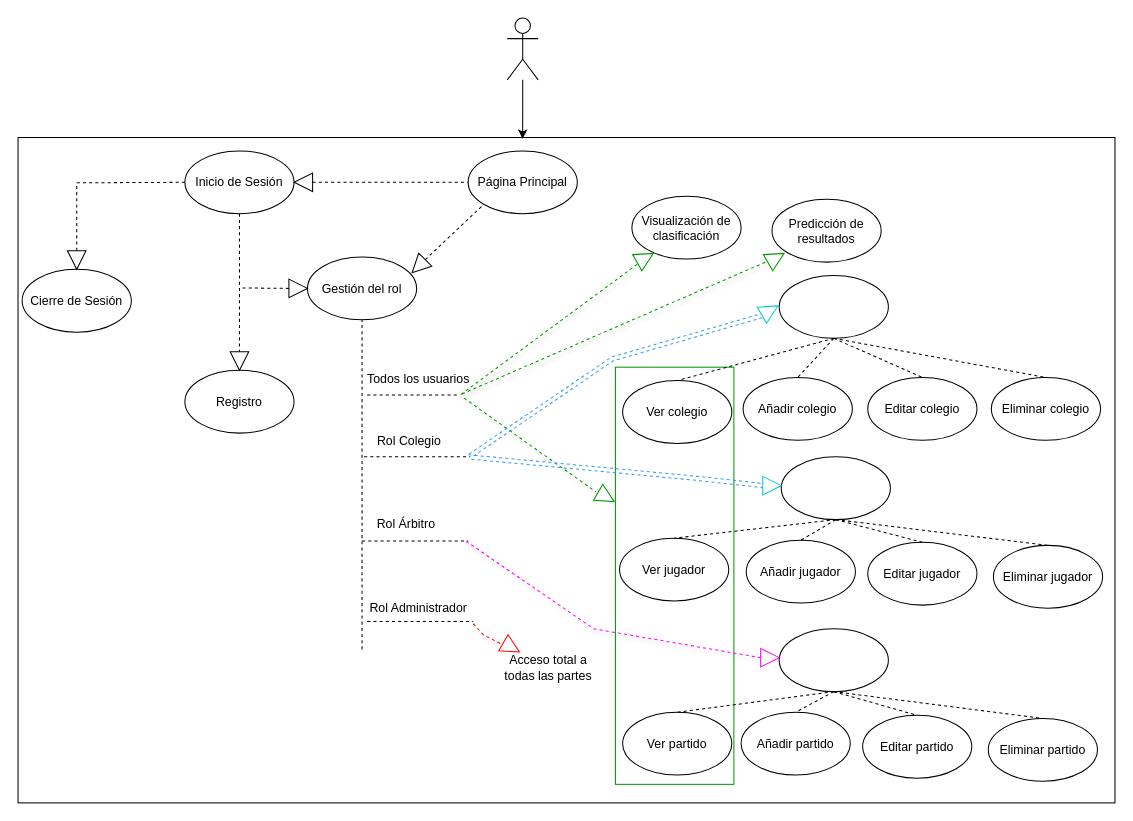
The diagram is 1133 pixels wide and 821 high, and some of its shapes have lost their labels. Here are the shapes that lost their labels. From the top down, the centre of each, then its label:
At (x=522, y=48): "Usuario".
At (x=833, y=306): "Gestión de Colegios".
At (x=835, y=488): "Gestión de Jugadores".
At (x=833, y=660): "Gestión de Partidos".
